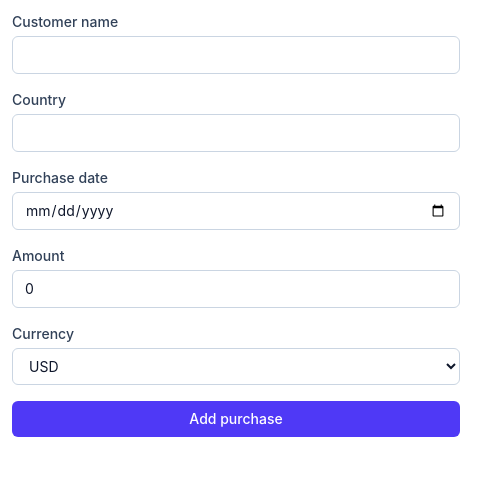
Test: PurchaseForm › submits a valid purchase and surfaces the backend 400 for unsupported currency
Type "Jane Doe" into the field labelled "Customer name". click: x=236, y=55
box: [12,36,460,74]
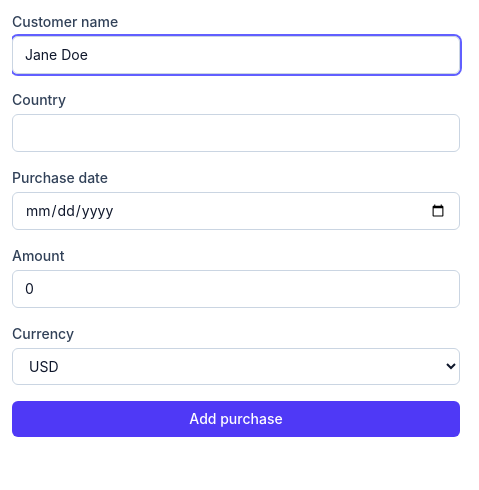
Type "France" into the field labelled "Country". click: x=236, y=133
box: [12,114,460,152]
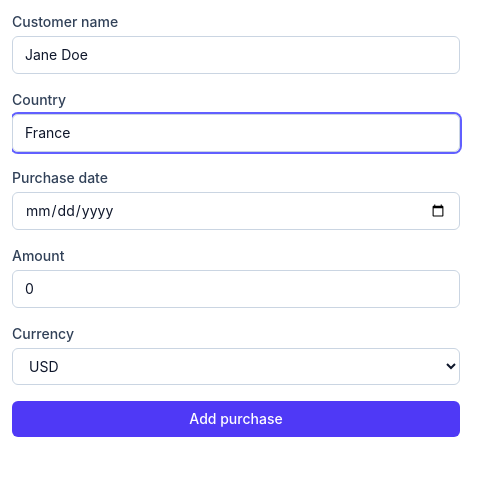
Type "2026-01-01" into the date field labelled "Purchase date". click: x=236, y=211
box: [12,192,460,230]
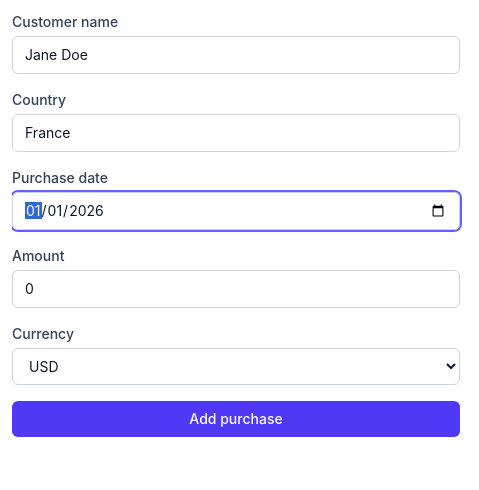
Replace the text in the number field labelled "Amount" with "42.50". click: x=236, y=289
box: [12,270,460,308]
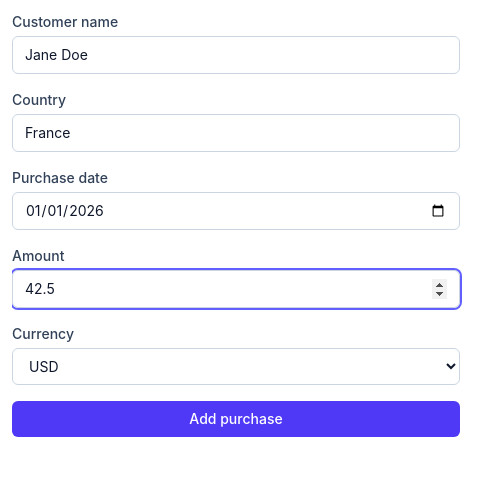
Click the button "Add purchase". click: x=236, y=419
box: [12,401,460,437]
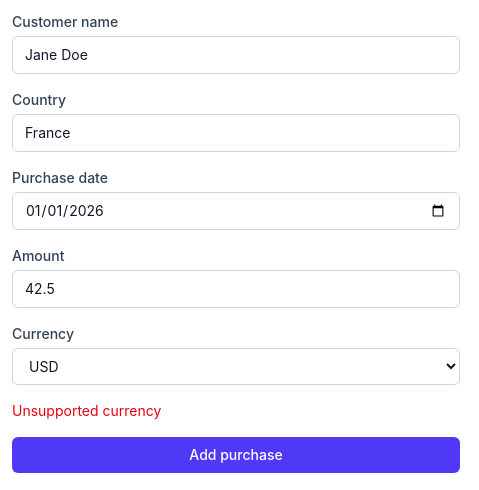
expect the text "Unsupported currency" is shown: met, box [12,402,161,419]
